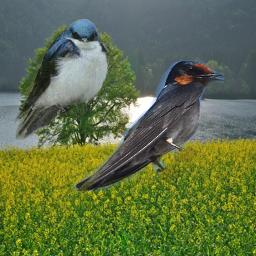Swallow: (74, 60, 224, 191), (12, 17, 111, 140)
